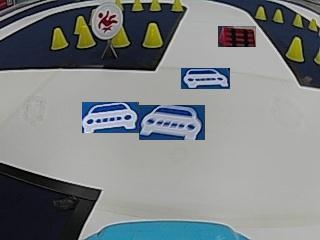cone: (142, 22, 163, 48), (75, 23, 95, 48), (285, 36, 304, 62), (112, 27, 130, 48), (50, 27, 67, 49), (254, 5, 266, 20), (273, 8, 283, 23), (171, 0, 183, 12), (293, 13, 302, 28), (308, 17, 317, 32), (132, 0, 143, 12), (150, 0, 161, 11)
tumble: (93, 5, 121, 35)
